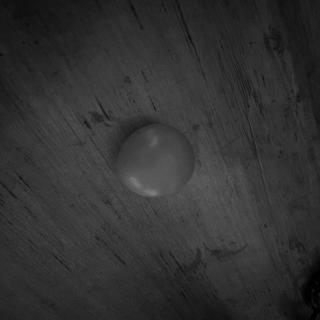Telur: (118, 123, 201, 202)
